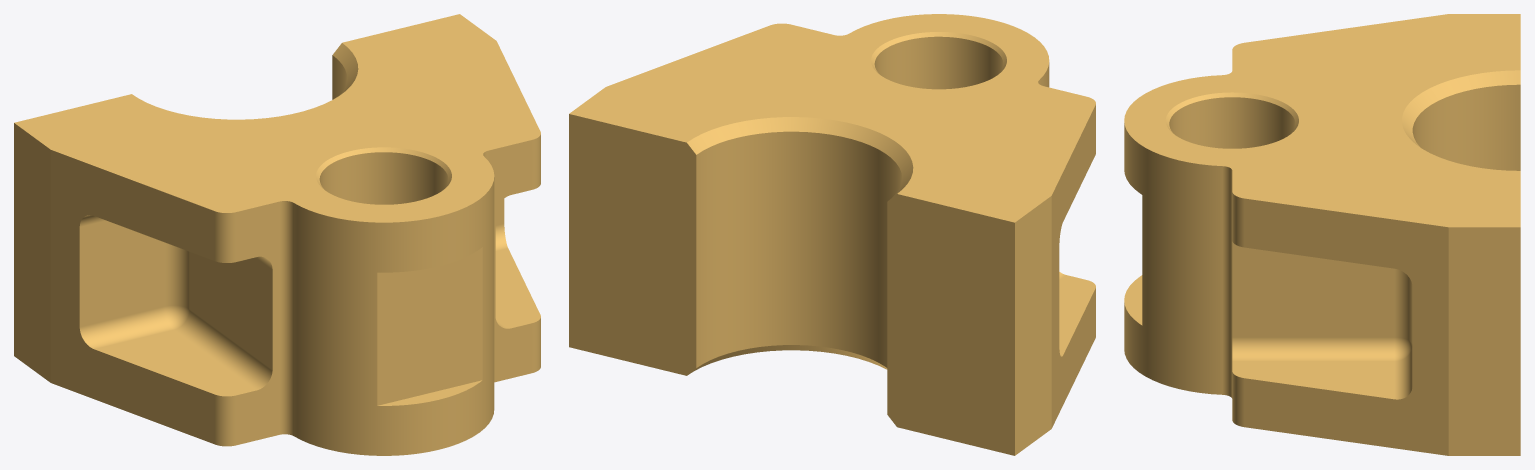
The model's file is Bloco.glb.
3 renders of one model, left to right at view 1: azimuth 30°, elevation 25°; view 2: azimuth 150°, elevation 25°; view 3: azimuth 270°, elevation 25°, orthographic. The views are drawn at different scales.
Visible parts, largest first — view 1: Part 1; view 2: Part 1; view 3: Part 1.
Boxes of the visible parts, <box> form: Part 1: <box>14,14,540,455</box>; Part 1: <box>569,14,1095,455</box>; Part 1: <box>1124,14,1520,455</box>.
Bounding box in the file's own units: 0.14 × 0.07 × 0.11.
